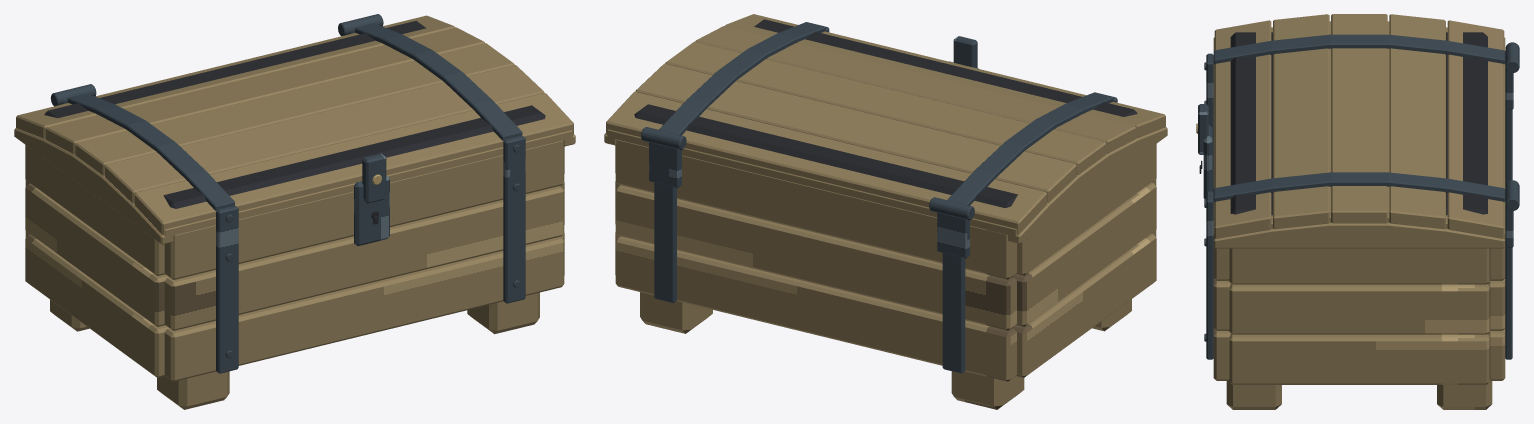
Rendered from chest-quiet.glb.
3 views of the same model, side by side, from view 1: azimuth 30°, elevation 25°; view 2: azimuth 150°, elevation 25°; view 3: azimuth 270°, elevation 25° (orthographic). The views are drawn at different scales.
Visible parts, largest first — view 1: chest-quiet runtime mesh; view 2: chest-quiet runtime mesh; view 3: chest-quiet runtime mesh.
Boxes of the visible parts, x1,y1,x2,y2 form: chest-quiet runtime mesh: (14, 14, 575, 409); chest-quiet runtime mesh: (604, 14, 1167, 409); chest-quiet runtime mesh: (1196, 14, 1519, 409).
Bounding box in the file's own units: 0.896 × 0.4573 × 0.6144.
Materials: 4 (2 with a texture image).
